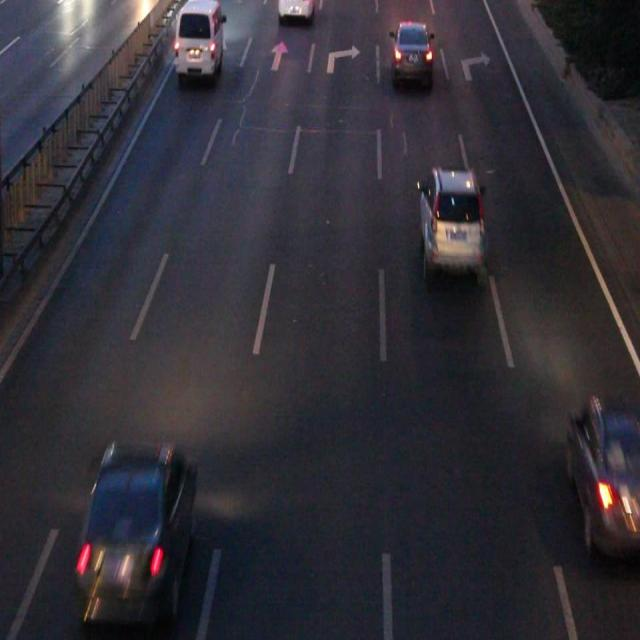car: (81, 444, 194, 598), (567, 401, 640, 558), (416, 169, 483, 274), (391, 25, 431, 82), (279, 1, 311, 18)
truck: (176, 1, 222, 75)
